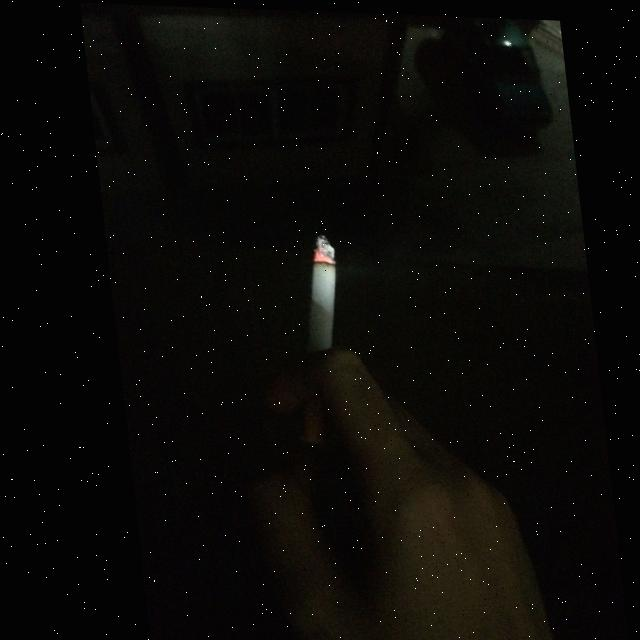cigarette: (271, 232, 347, 446)
